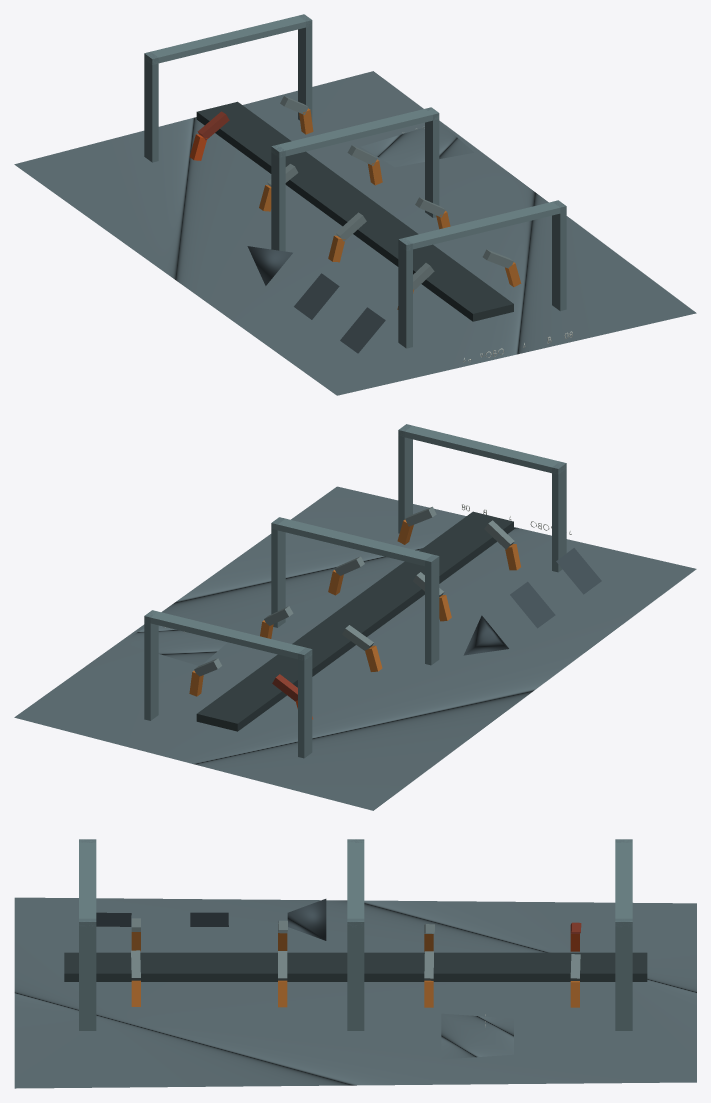
The model's file is robotic_assembly_line_d1_lod2.meshopt.glb.
3 renders of one model, top to bottom at view 1: azimuth 30°, elevation 25°; view 2: azimuth 150°, elevation 25°; view 3: azimuth 270°, elevation 25°, orthographic. The views are drawn at different scales.
Visible parts, largest first — view 1: ROBOTIC_ASSEMBLY_LINE_LOD2_STATIC_GEOMETRY; view 2: ROBOTIC_ASSEMBLY_LINE_LOD2_STATIC_GEOMETRY; view 3: ROBOTIC_ASSEMBLY_LINE_LOD2_STATIC_GEOMETRY.
Boxes of the visible parts, x1,y1,x2,y2 form: ROBOTIC_ASSEMBLY_LINE_LOD2_STATIC_GEOMETRY: (14, 14, 696, 395); ROBOTIC_ASSEMBLY_LINE_LOD2_STATIC_GEOMETRY: (14, 424, 696, 810); ROBOTIC_ASSEMBLY_LINE_LOD2_STATIC_GEOMETRY: (14, 839, 696, 1088).
Bounding box in the file's own units: 17.99 × 5.21 × 28.02.
